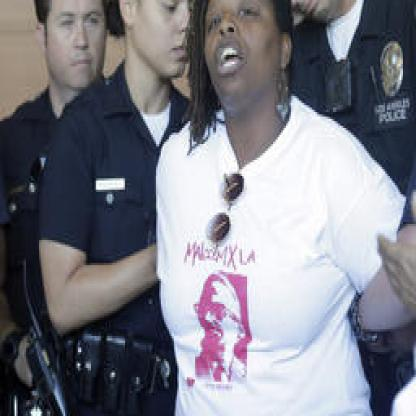gun: (6, 327, 88, 414)
